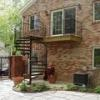stairs: (13, 34, 44, 58)
